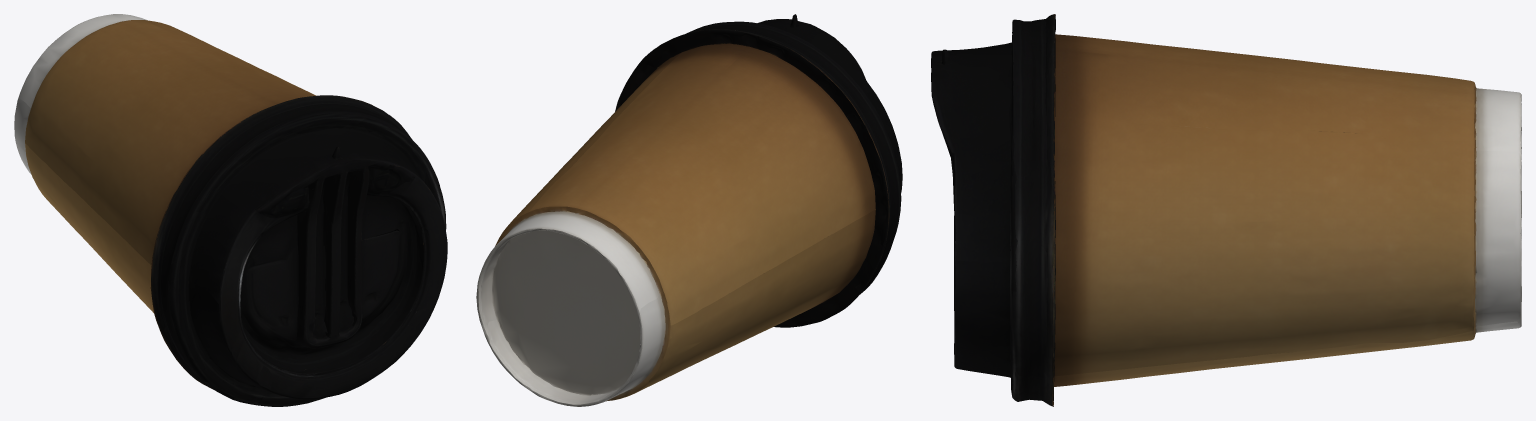
File: cup.obj
3 views of the same model, side by side, from view 1: azimuth 30°, elevation 25°; view 2: azimuth 150°, elevation 25°; view 3: azimuth 270°, elevation 25° (orthographic). The views are drawn at different scales.
Visible parts, largest first — view 1: geometry_0; view 2: geometry_0; view 3: geometry_0.
Part boxes in pixels (box(x1,y1,x2,y2)): geometry_0: box(14, 14, 447, 406); geometry_0: box(476, 14, 902, 406); geometry_0: box(931, 14, 1521, 406).
Bounding box in the file's own units: 0.086 × 0.0857 × 0.1291.
Materials: 1 (1 with a texture image).
